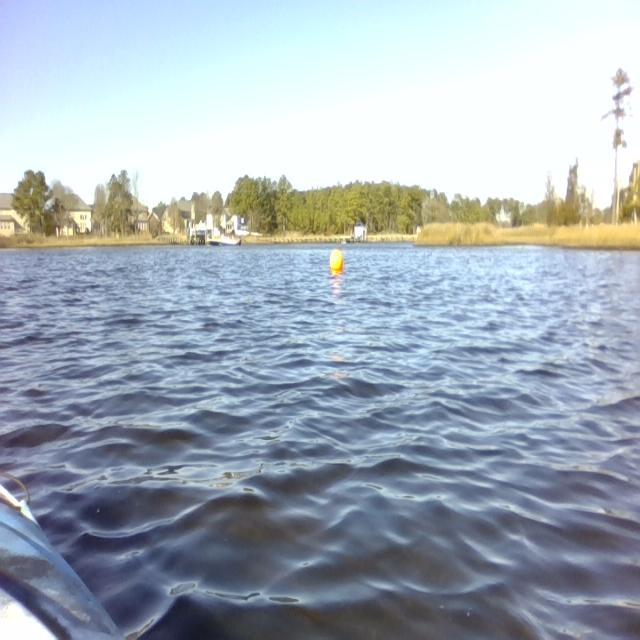Buoy: (324, 246, 346, 278)
